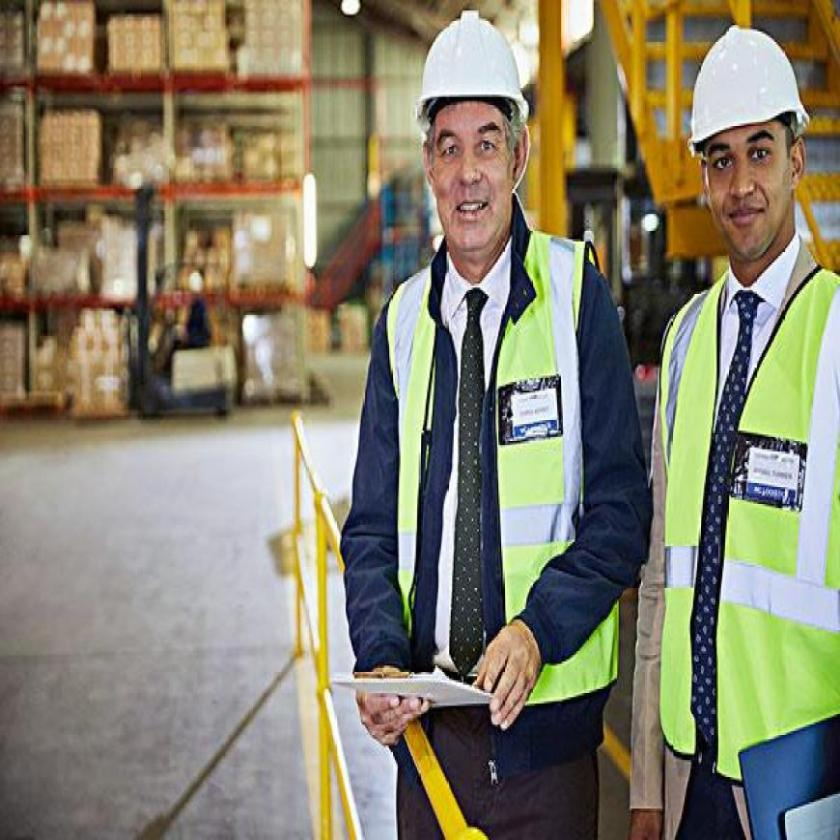Con_casco: (413, 2, 534, 264), (689, 15, 810, 241)
